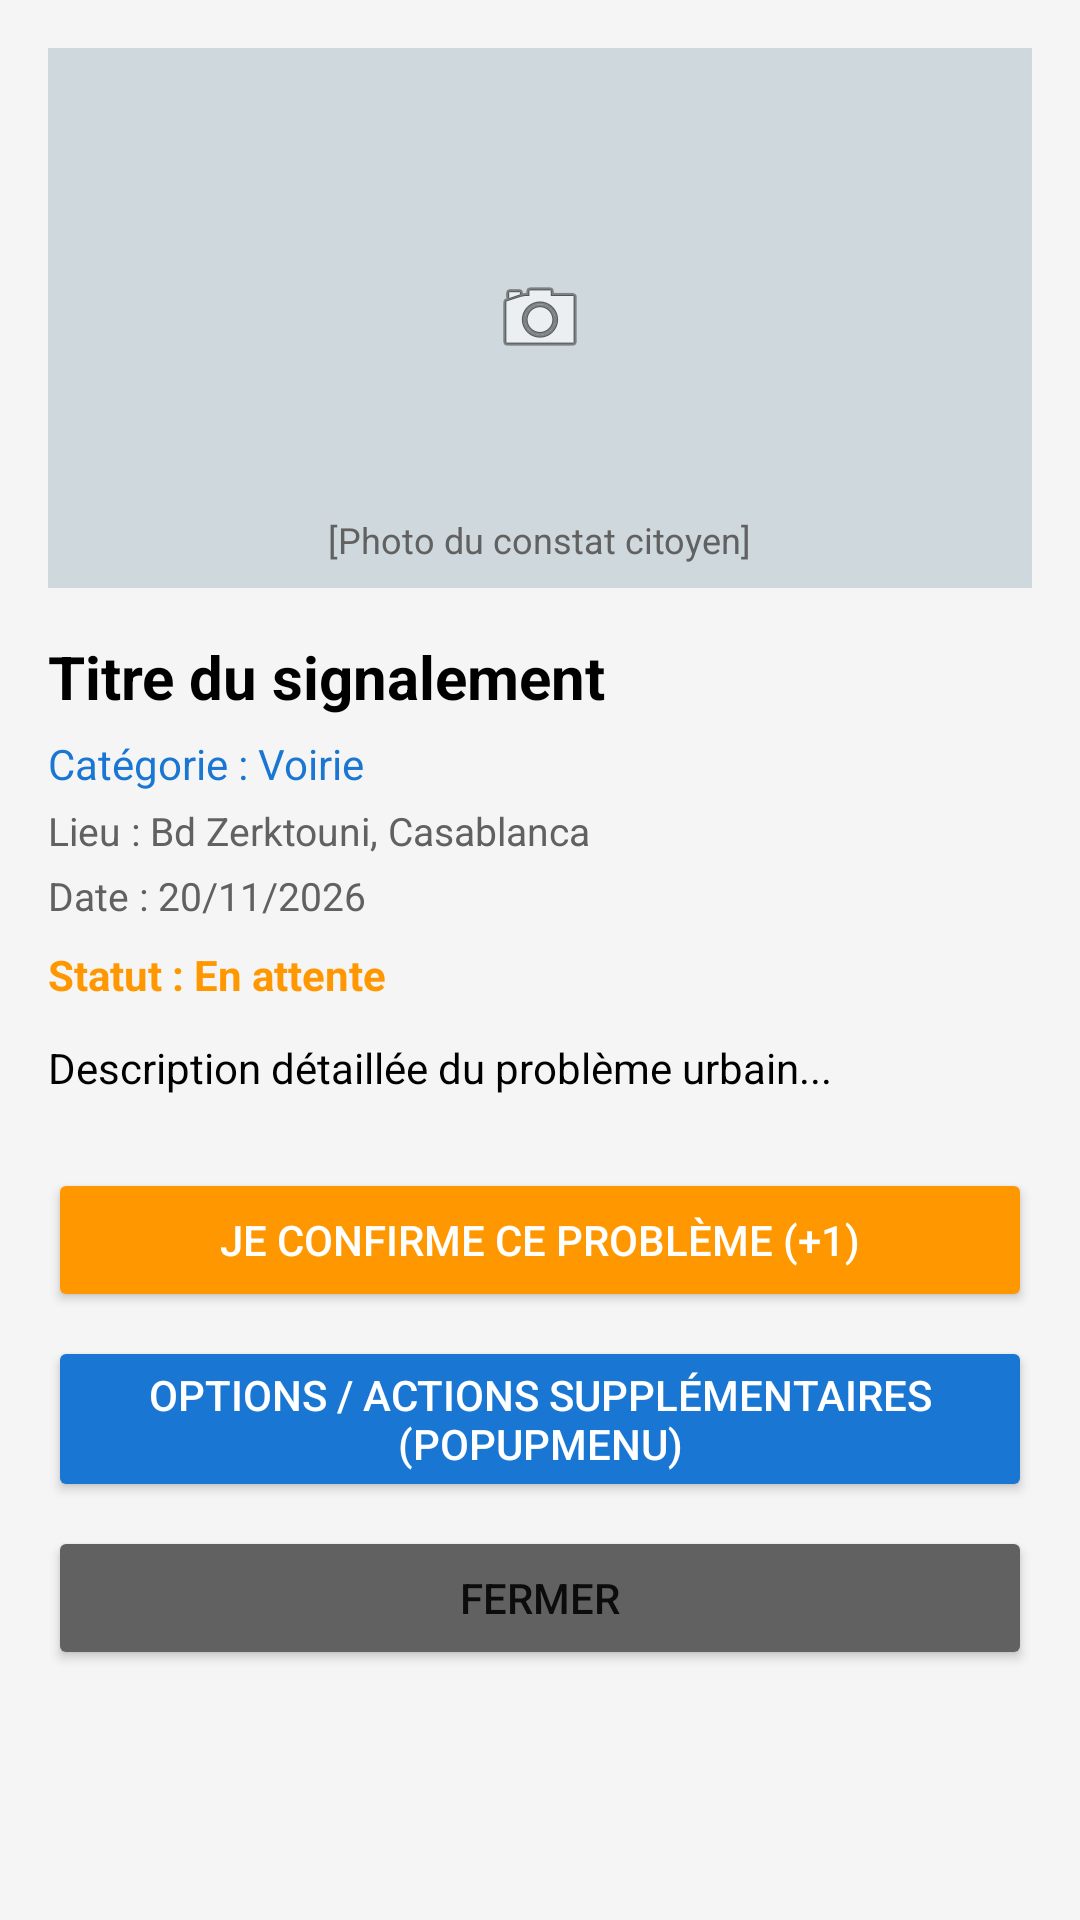

Icons on this 1080*1920 Android screen, each with its box as BBox(x1, y1, x2, y2):
camera: BBox(503, 287, 577, 346)
